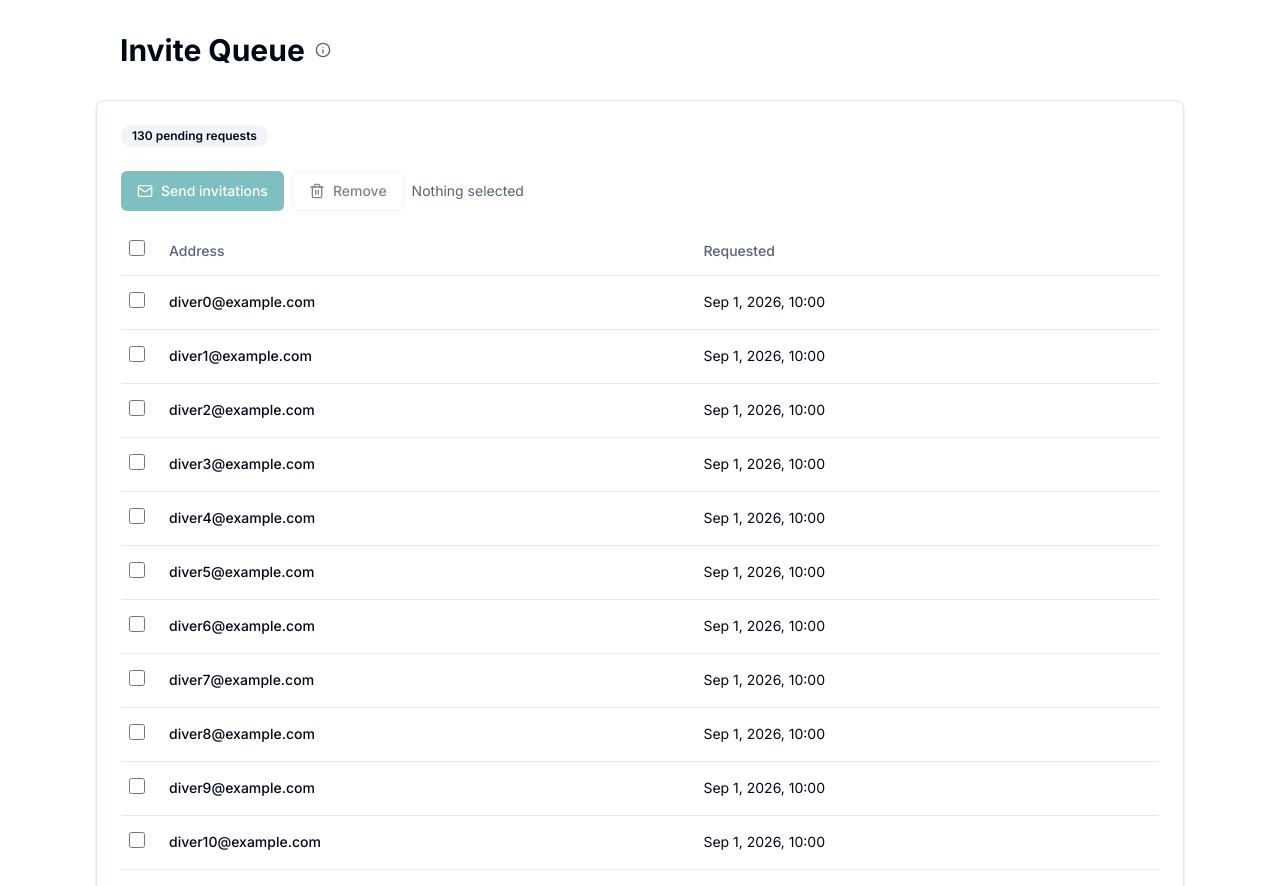
Scenario: the invite queue › the hundred-address batch cap › still clears the selection once the cap has been hit
Expected: the text "diver0@example.com" is shown, [161, 275, 695, 329]
Click the checkbox named "Select a batch of requests, or clear the selection".
click(137, 248)  # box [129, 240, 145, 256]
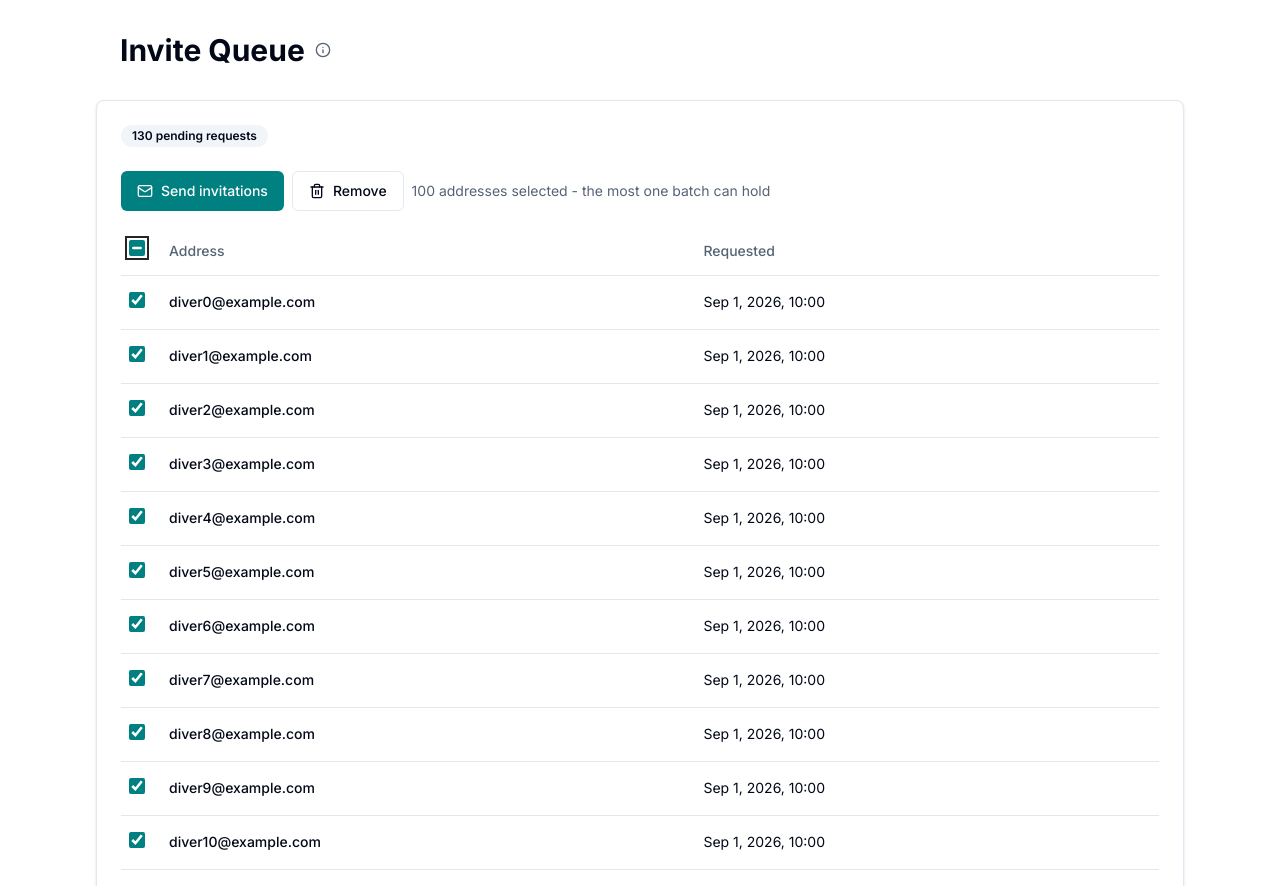
Expected: the text "100 addresses selected - the most one batch can hold" is shown, [412, 181, 770, 201]
Click the checkbox named "Select a batch of requests, or clear the selection".
click(137, 248)  # box [129, 240, 145, 256]
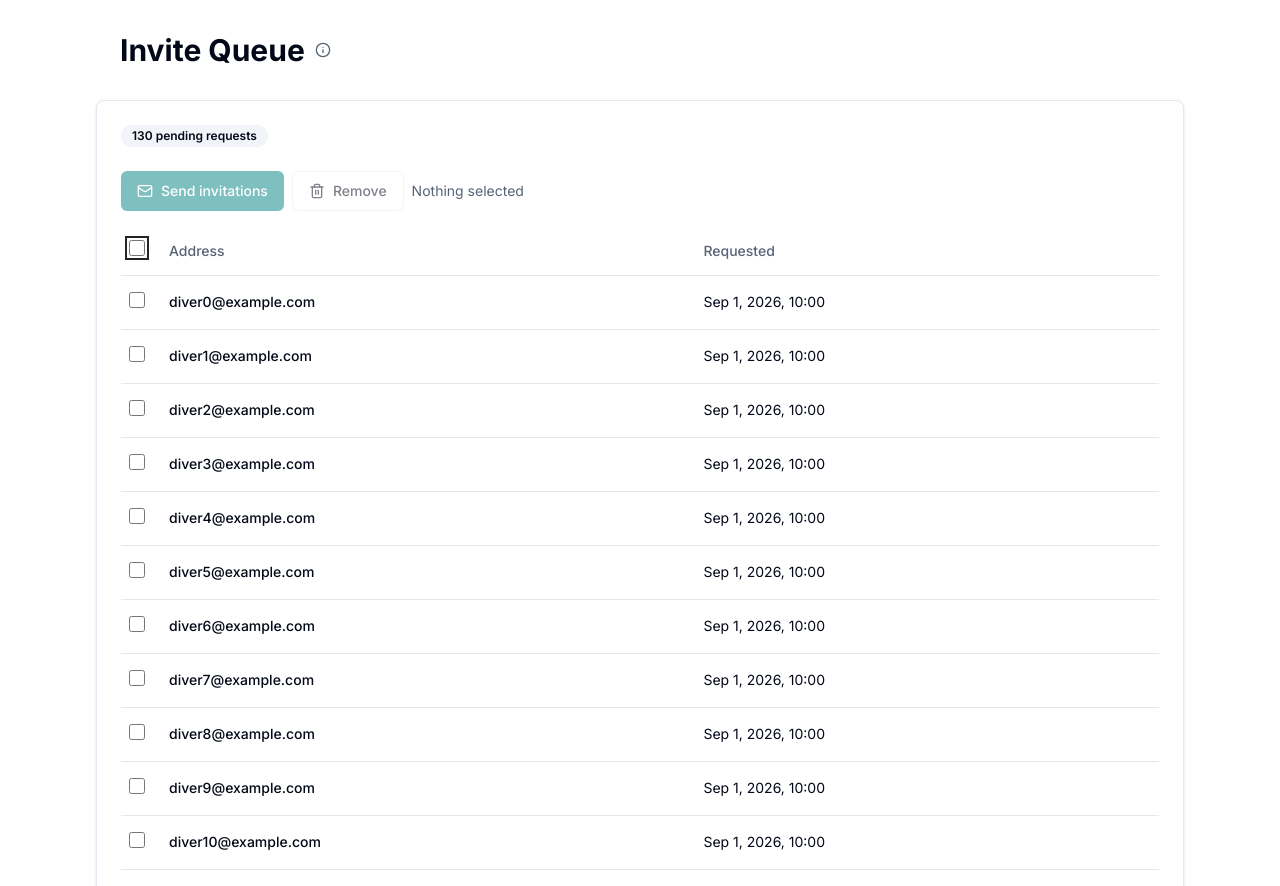
Expected: the text "Nothing selected" is shown, [412, 181, 524, 201]
Expected: the checkbox named "Select diver0@example.com" is not checked, [129, 292, 145, 308]
